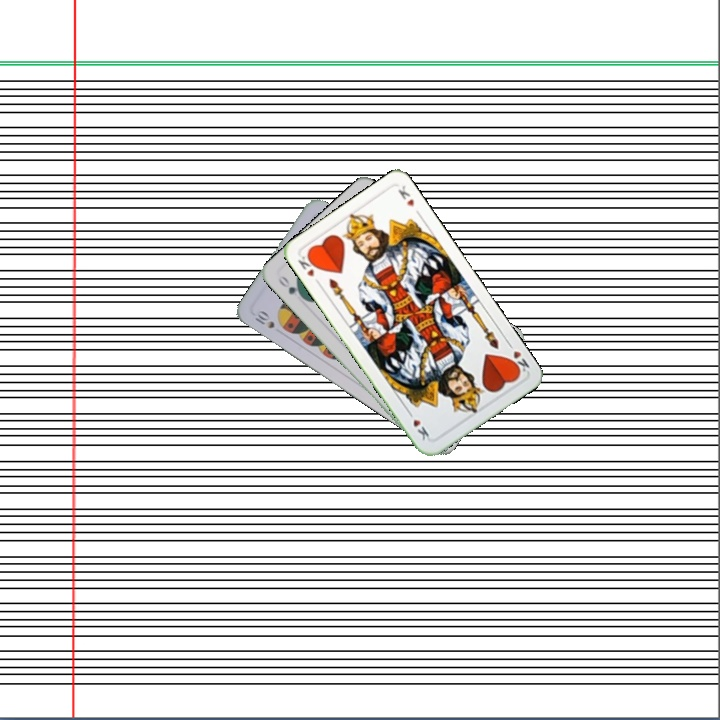GO: (274, 271, 308, 302)
HK: (503, 338, 532, 378), (294, 249, 323, 288)
S10: (249, 306, 277, 331)
